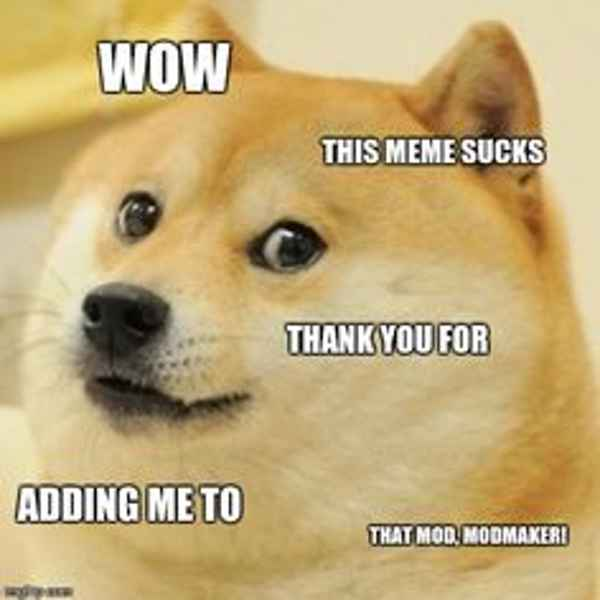doge: (43, 14, 551, 529)
